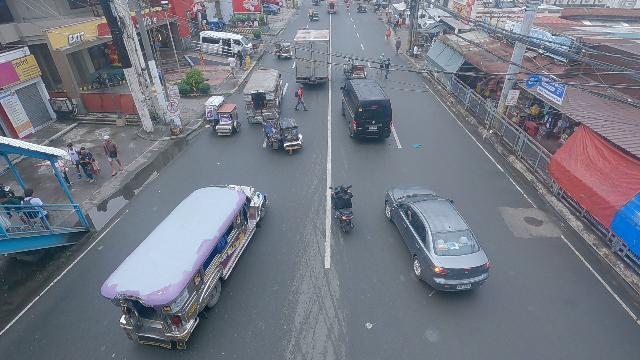car: (384, 185, 491, 295)
jeepney: (100, 182, 269, 350), (242, 68, 282, 125), (326, 0, 338, 14)
motorcycle: (328, 185, 358, 236), (346, 1, 350, 11)
truck: (293, 29, 331, 85)
van: (340, 79, 393, 141), (197, 30, 253, 61)
